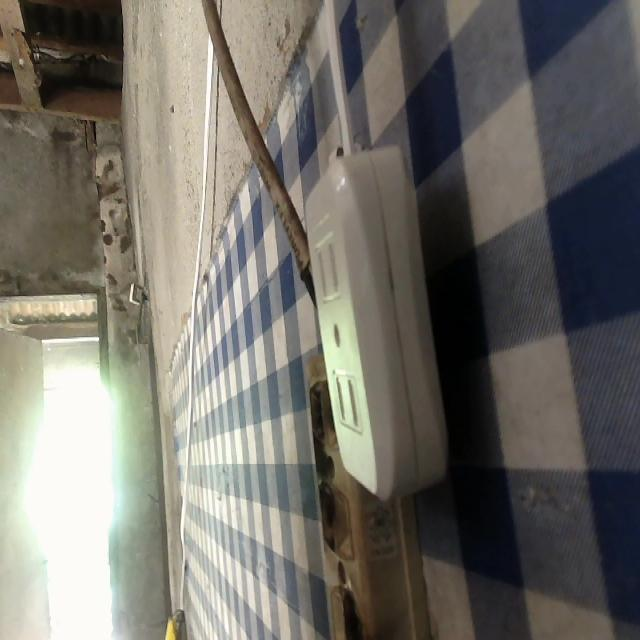-: (298, 376, 335, 457), (304, 472, 339, 556)
